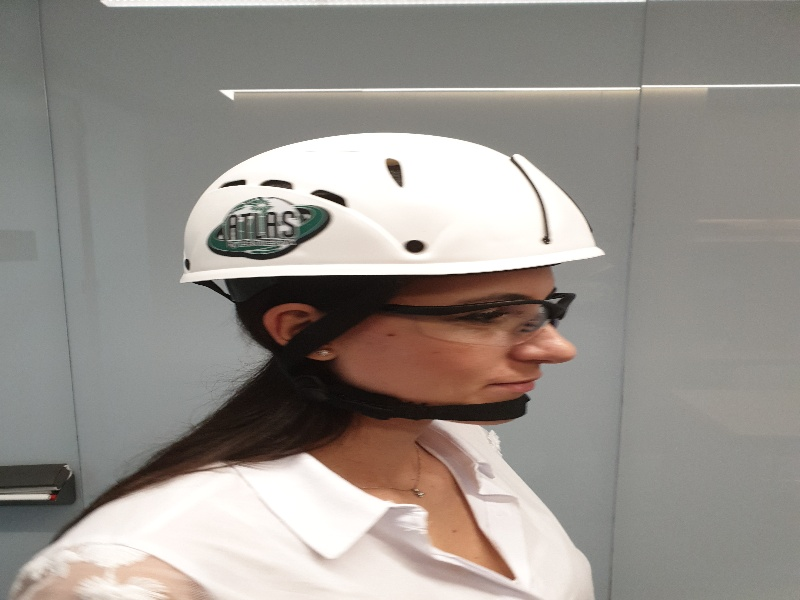Baret: (186, 134, 609, 273)
Gozluk: (349, 292, 592, 331)
